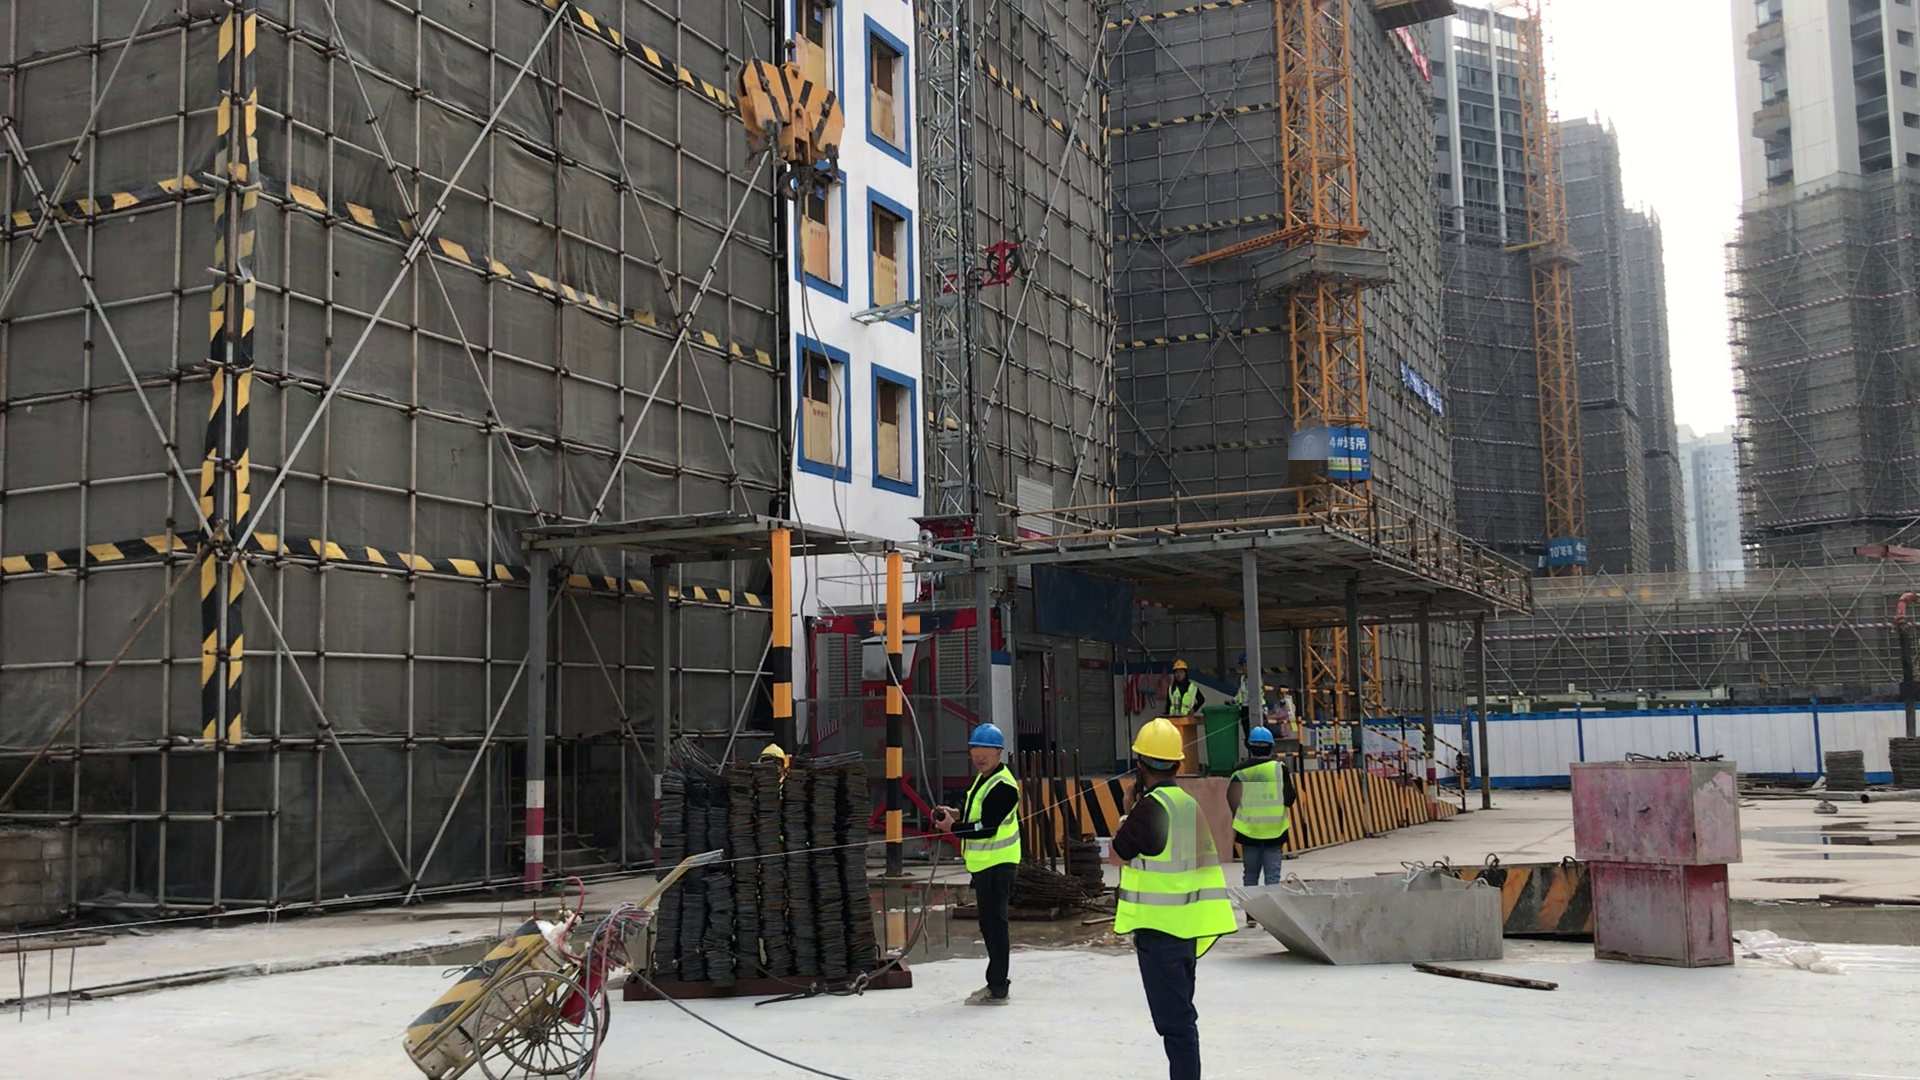helmet: (1128, 715, 1196, 775), (966, 714, 1012, 752), (756, 737, 795, 768), (1244, 725, 1281, 748), (1168, 652, 1194, 677), (1240, 652, 1251, 663)
person: (1112, 714, 1225, 1080), (951, 715, 1036, 1008), (1228, 726, 1294, 888), (1272, 681, 1311, 760), (1163, 656, 1210, 718), (1231, 650, 1253, 729)
vest: (1117, 786, 1246, 964), (958, 759, 1026, 879), (1235, 757, 1290, 852), (1238, 674, 1266, 721), (1165, 681, 1197, 719)
